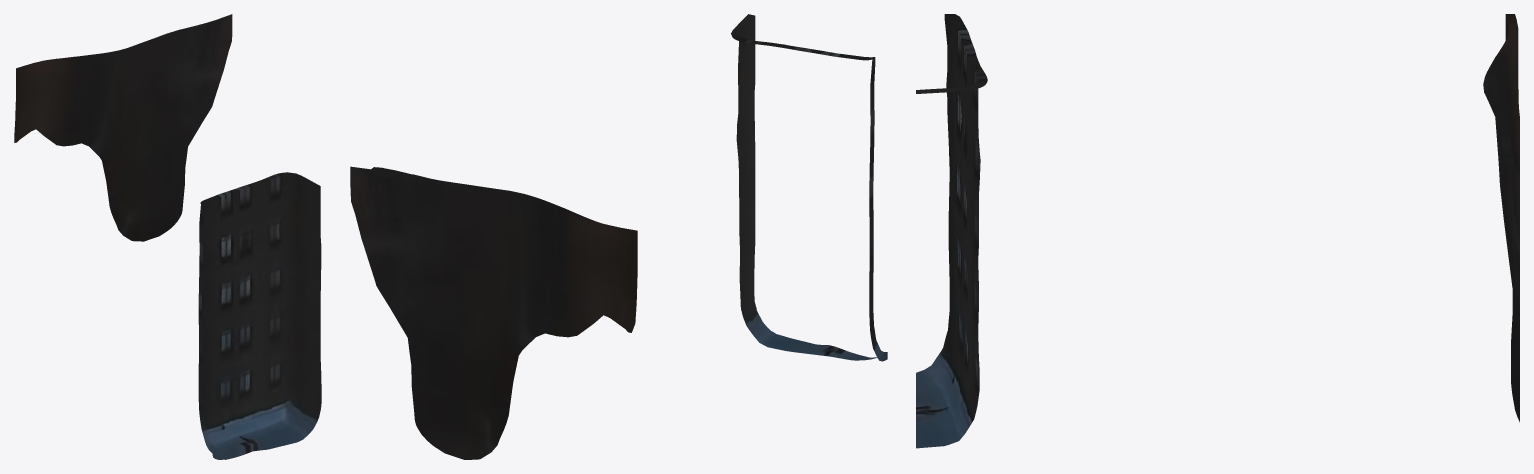
Rendered from z20-167746-405248-h0-yup-uvflip-v3-world.glb.
3 renders of one model, left to right at view 1: azimuth 30°, elevation 25°; view 2: azimuth 150°, elevation 25°; view 3: azimuth 270°, elevation 25°, orthographic. The views are drawn at different scales.
Size of the model in its own units: 19.24 by 21.12 by 30.32.
1 material, 1 textured.
